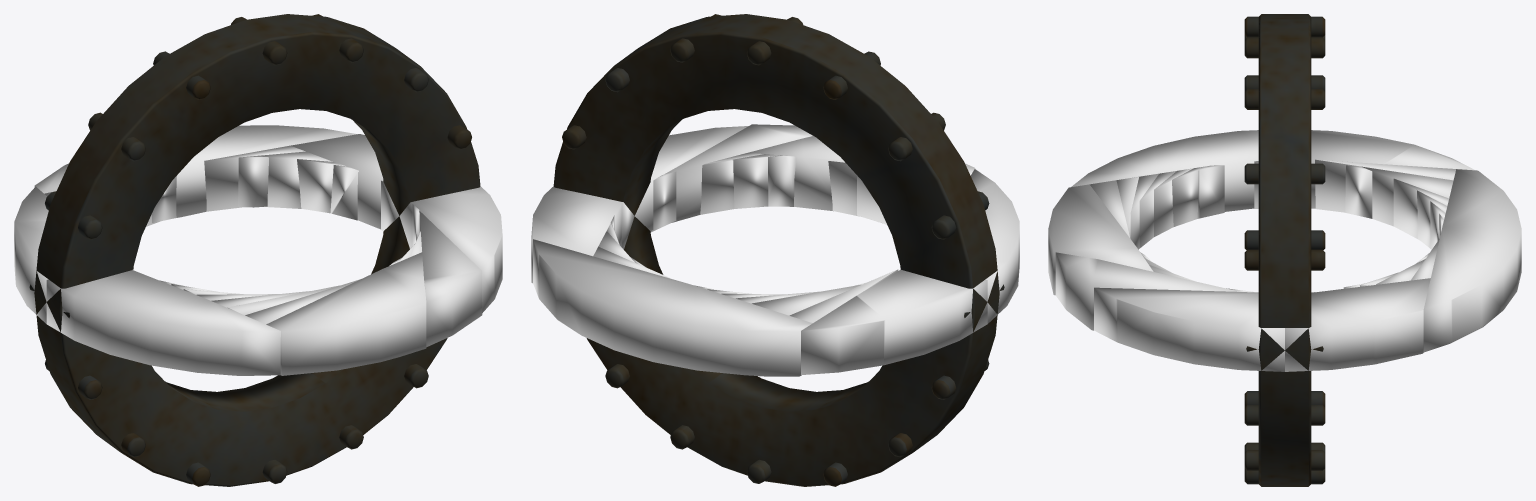
The model's file is SM_Pipes_Medium_Ring.fbx.
3 views of the same model, side by side, from view 1: azimuth 30°, elevation 25°; view 2: azimuth 150°, elevation 25°; view 3: azimuth 270°, elevation 25° (orthographic). The views are drawn at different scales.
Parts seen in each view (by area): view 1: SM_Pipes_Medium_Ring, SM_Pipes_Medium_Ring_ConvexHulls; view 2: SM_Pipes_Medium_Ring, SM_Pipes_Medium_Ring_ConvexHulls; view 3: SM_Pipes_Medium_Ring_ConvexHulls, SM_Pipes_Medium_Ring.
Boxes of the visible parts, x1=… form: SM_Pipes_Medium_Ring: x1=29, y1=14, x2=480, y2=486; SM_Pipes_Medium_Ring_ConvexHulls: x1=14, y1=125, x2=502, y2=375; SM_Pipes_Medium_Ring: x1=553, y1=14, x2=1004, y2=486; SM_Pipes_Medium_Ring_ConvexHulls: x1=531, y1=124, x2=1019, y2=376; SM_Pipes_Medium_Ring_ConvexHulls: x1=1048, y1=130, x2=1521, y2=371; SM_Pipes_Medium_Ring: x1=1244, y1=14, x2=1325, y2=486.
Bounding box in the file's own units: 0.4502 × 0.4502 × 0.4502.
